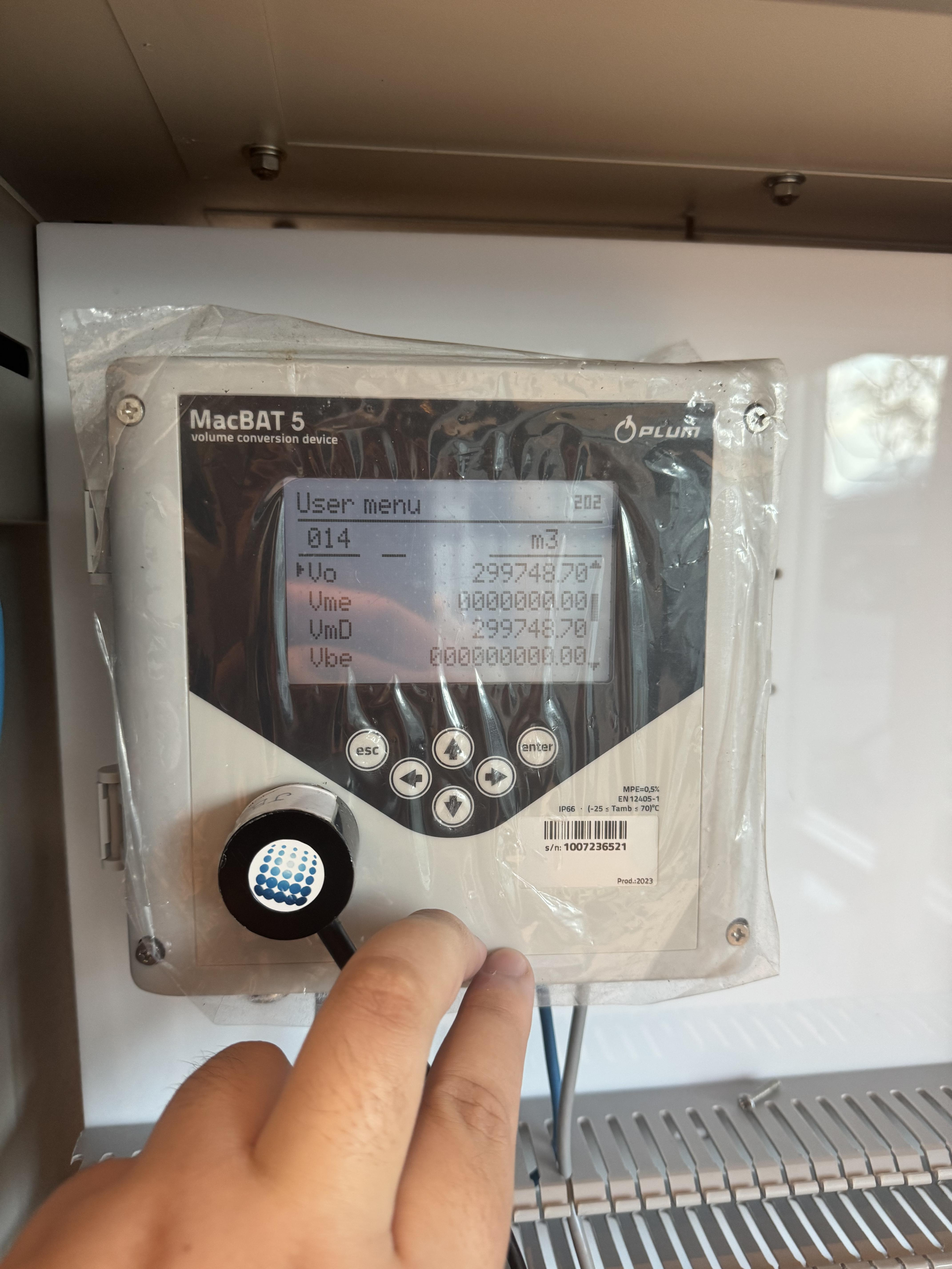digital_screen: (283, 479, 615, 687)
